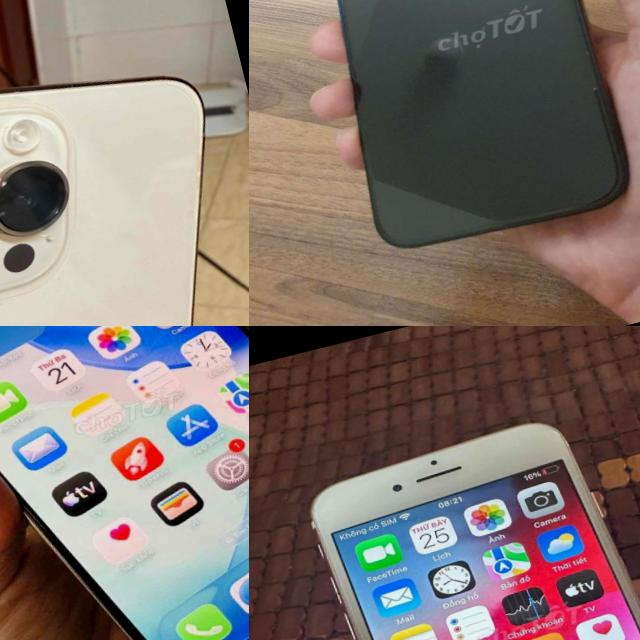gen_12_13: (268, 0, 640, 277)
gen_14: (0, 23, 249, 326)
gen_16: (0, 326, 249, 640)
gen_7_8: (290, 384, 640, 640)
